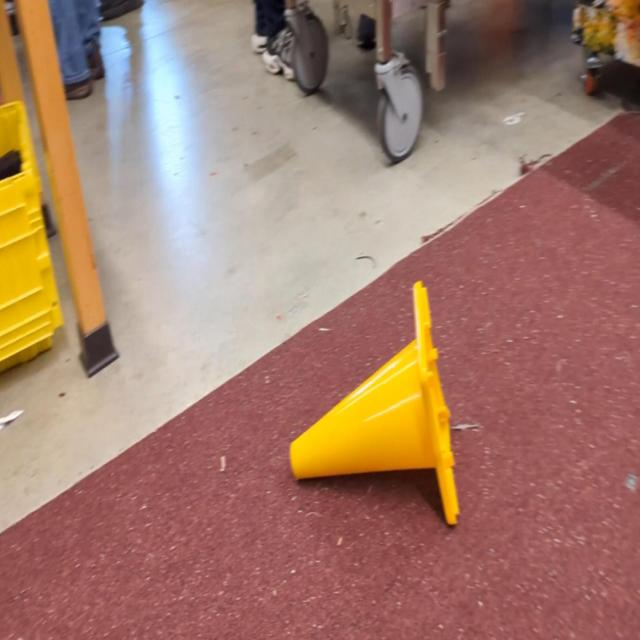frc_cone: (289, 280, 459, 526)
